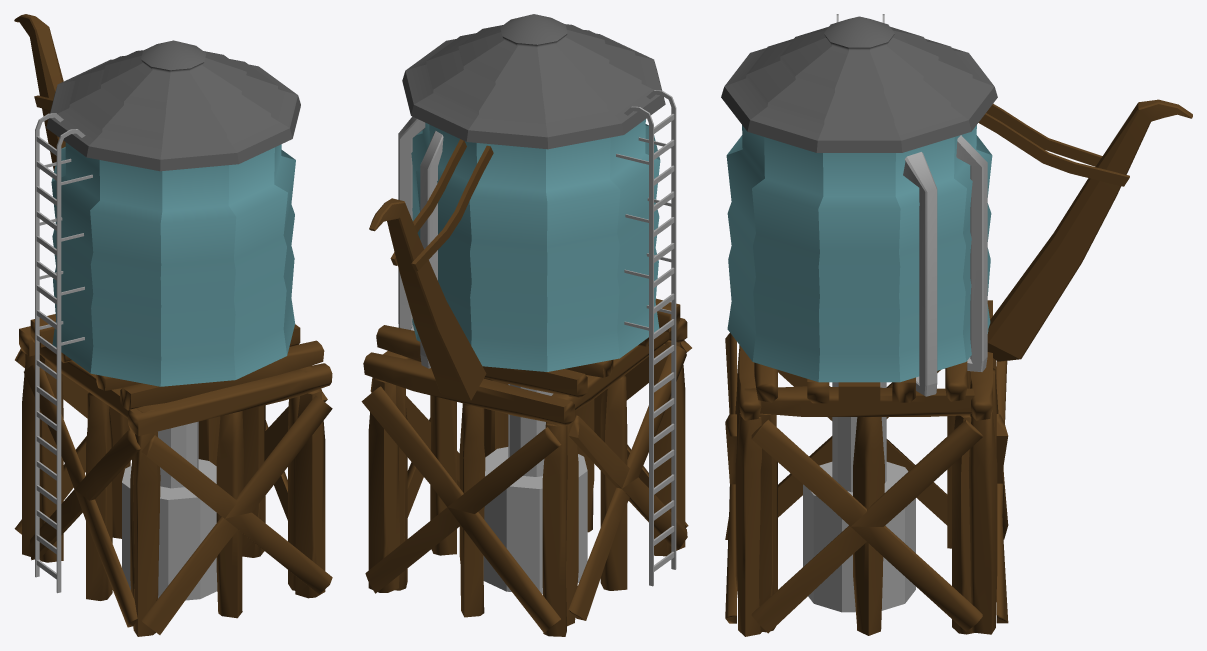
The model's file is Asset_WaterTowerOriginal.fbx.
The picture shows the model from 3 angles, left to right: view 1: azimuth 30°, elevation 25°; view 2: azimuth 150°, elevation 25°; view 3: azimuth 270°, elevation 25°; orthographic projection. The views are drawn at different scales.
Visible parts, largest first — view 1: WaterTrowerOriginal; view 2: WaterTrowerOriginal; view 3: WaterTrowerOriginal.
Part boxes in pixels (bbox=[...]): WaterTrowerOriginal: bbox=[14, 14, 332, 636]; WaterTrowerOriginal: bbox=[361, 14, 691, 636]; WaterTrowerOriginal: bbox=[721, 14, 1192, 636].
Bounding box in the file's own units: 554 × 1210 × 903.
